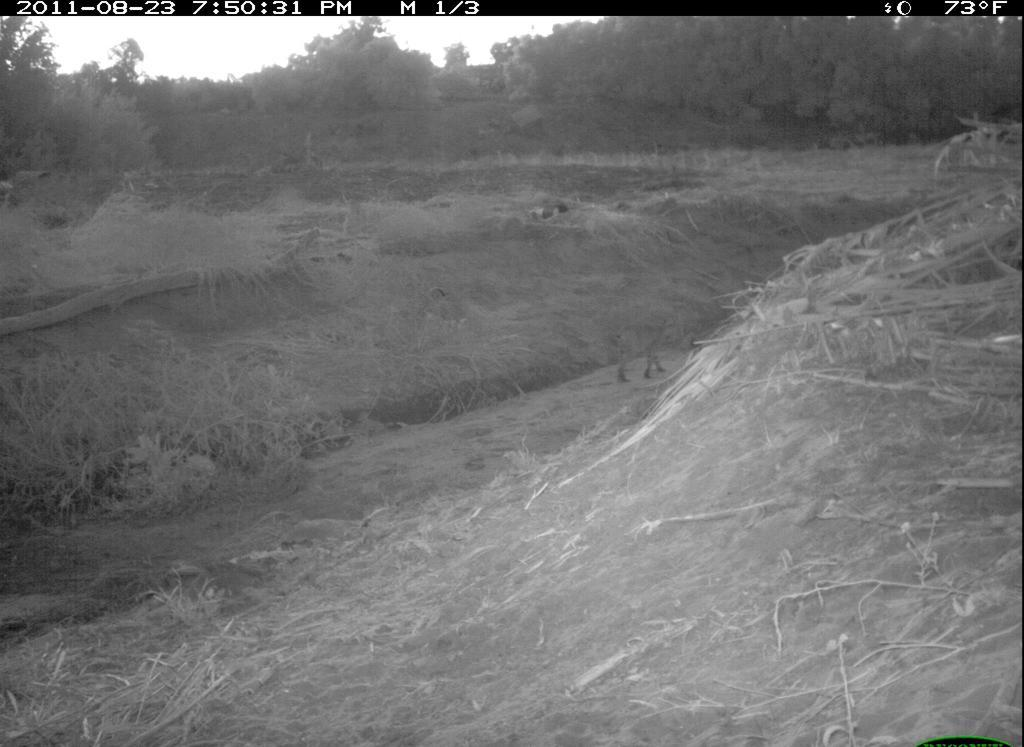bobcat: (611, 304, 689, 386)
